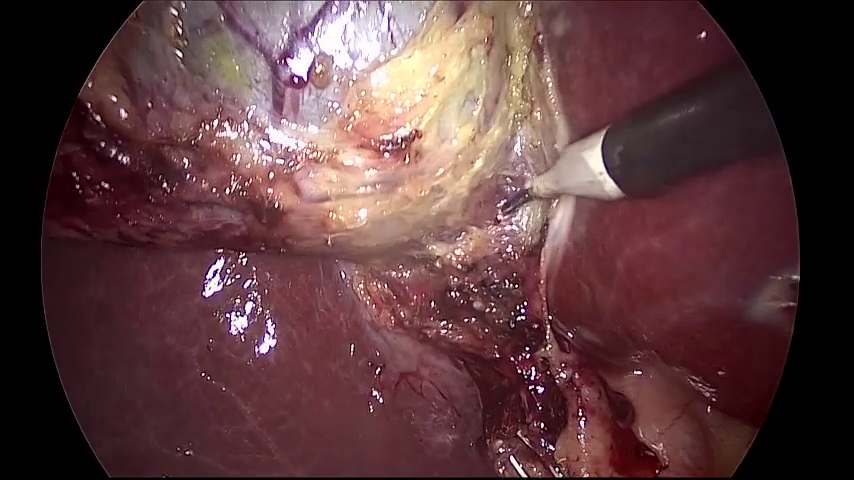lhook: (497, 52, 782, 216)
